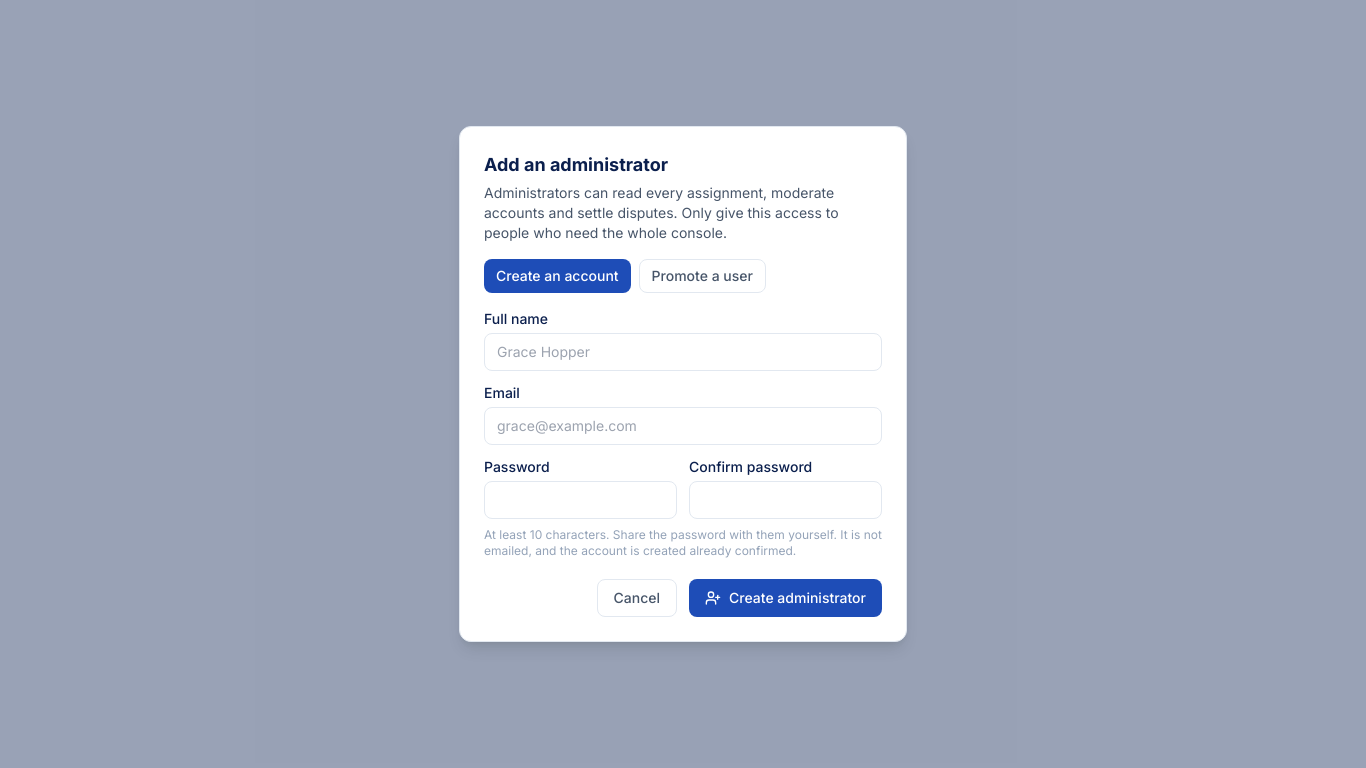
Test case: AddAdminDialog › clears a previous error when switching mode
Click the button "Create administrator" at (786, 598), box [689,579,882,617]
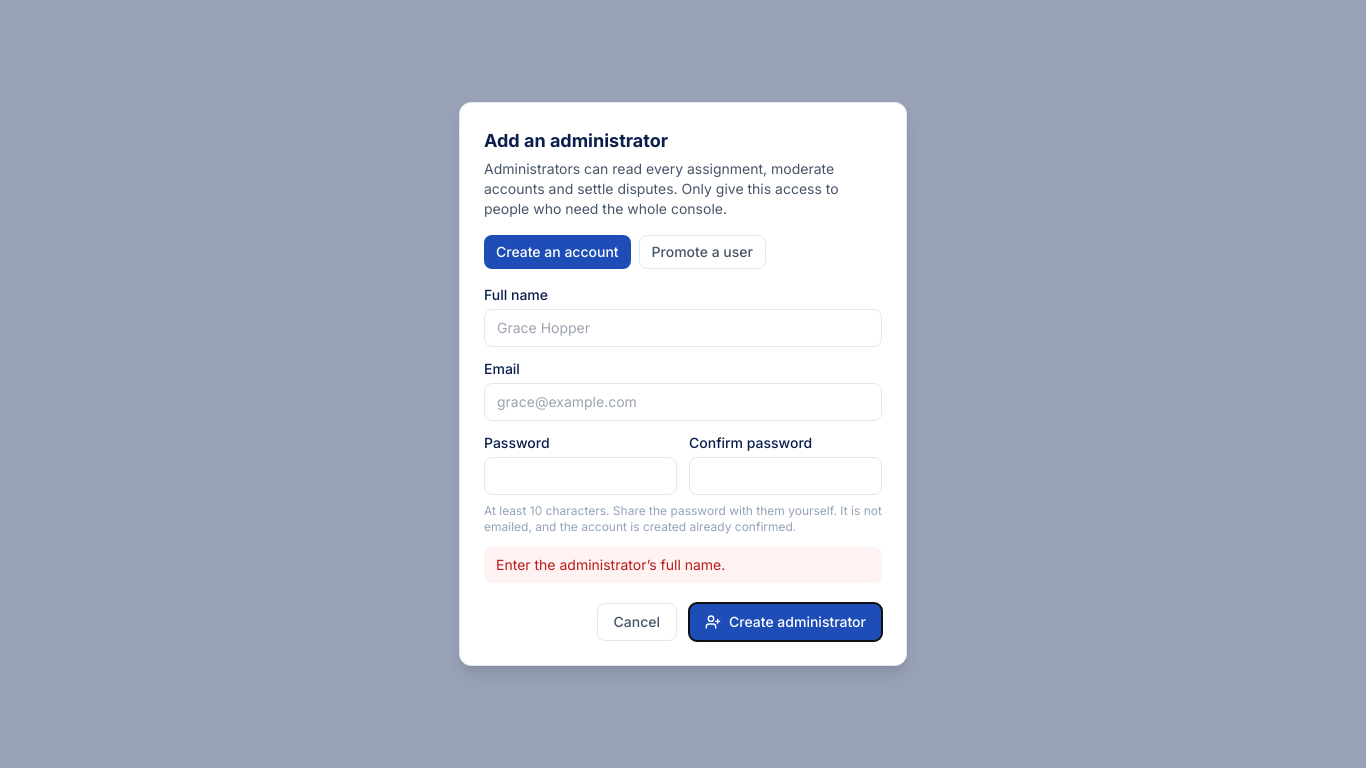
Result: the message shows "full name" at [496,556,725,573]
Click the tab "Promote a user" at (702, 252), box [639,235,766,269]
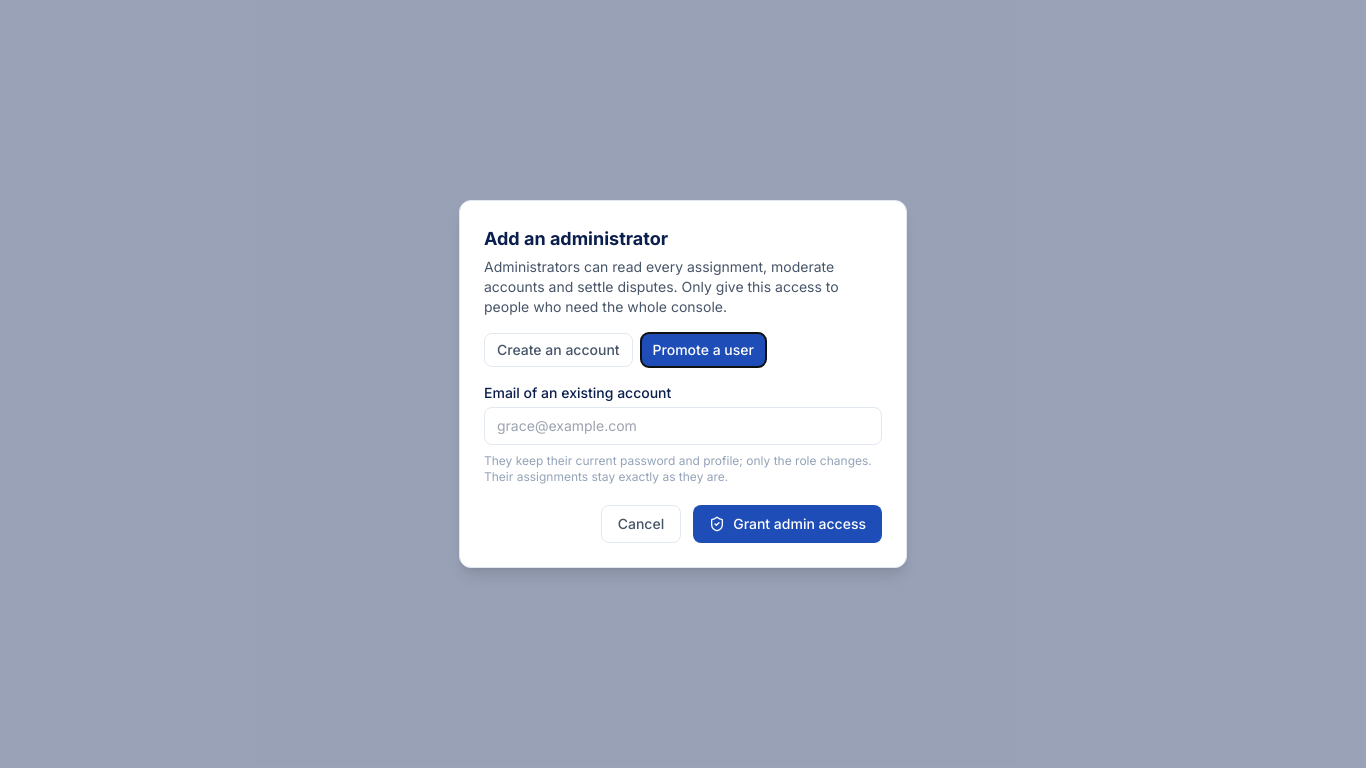
Result: the message "Enter the administrator’s full name." is gone
